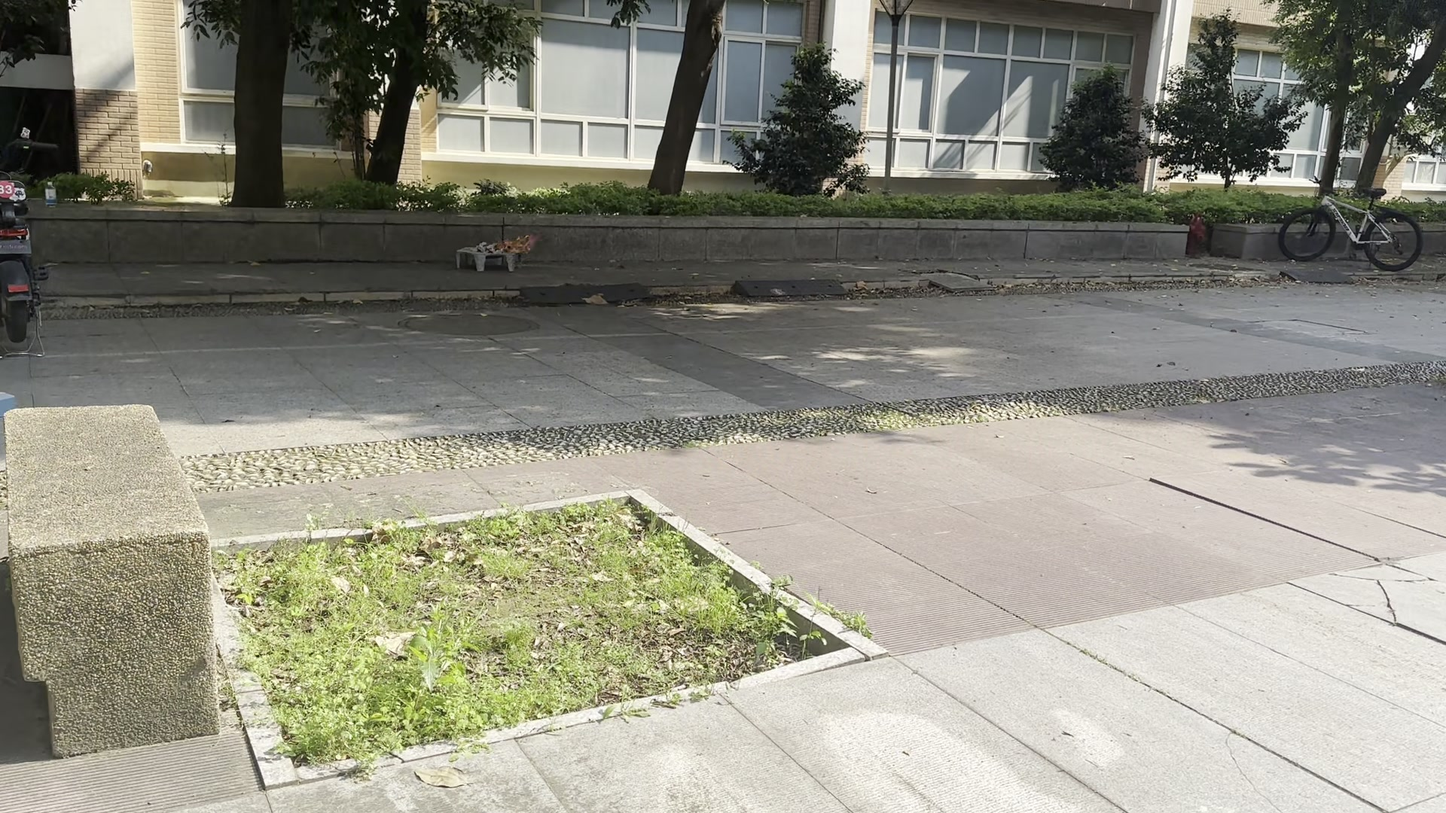fire: (499, 236, 529, 253)
